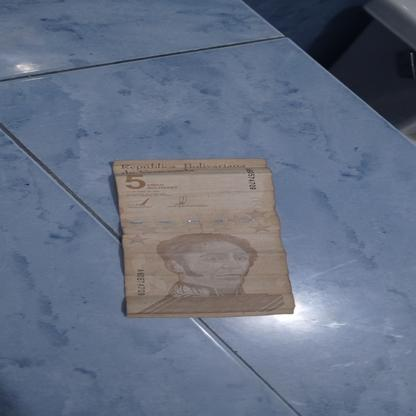five-front-vef: (111, 157, 295, 317)
